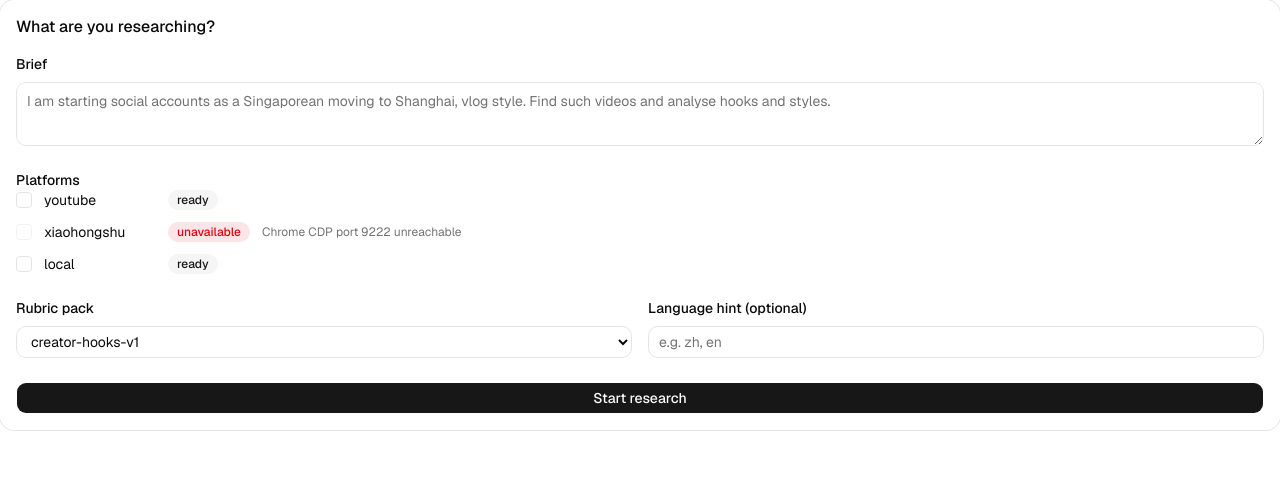
Test case: BriefForm › blocks submit without a brief or platform
What coordinates should you click on to do the following:
click the button "Start research"
I would click on:
 (640, 398)
Its box is [16,382,1264,414].
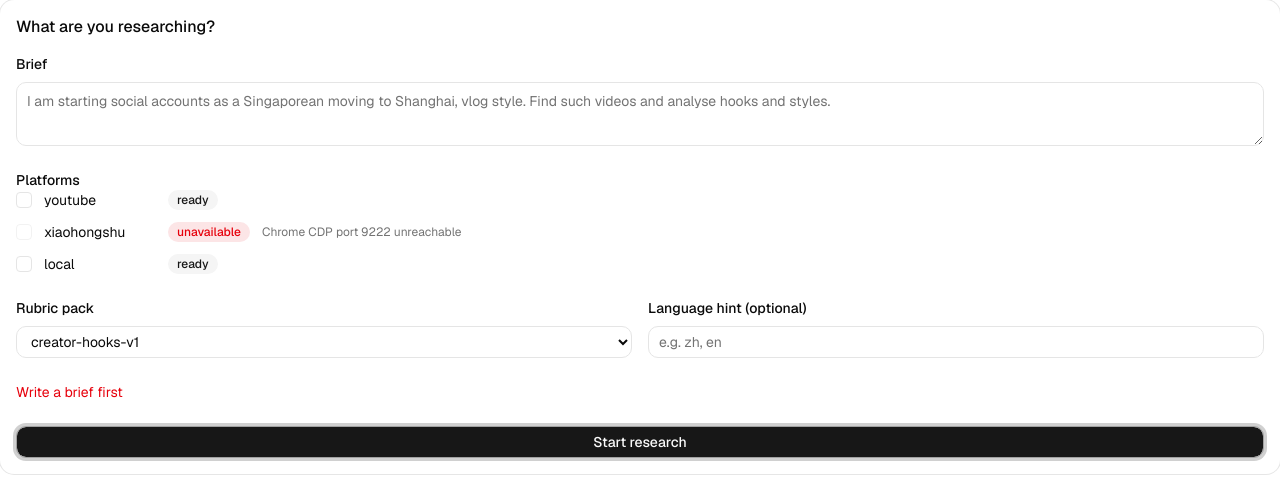
Expected: the text "Write a brief first" is shown, [16,383,123,401]
